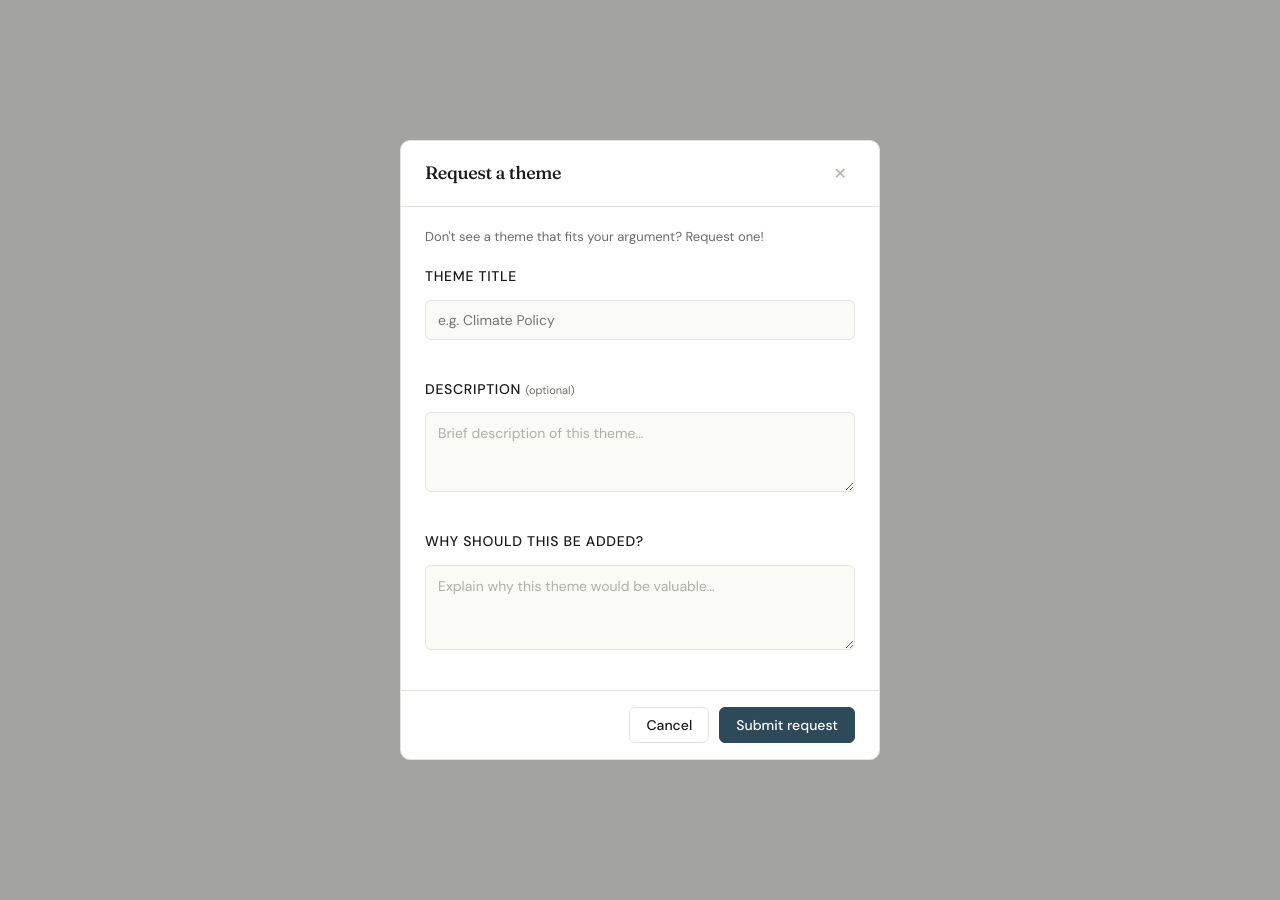
Test: ThemeRequestForm › shows API error message on failed submission
This screenshot has width=1280, height=900.
Type "Duplicate" into the field labelled "Theme title" at (640, 320), box [425,300,855,340]
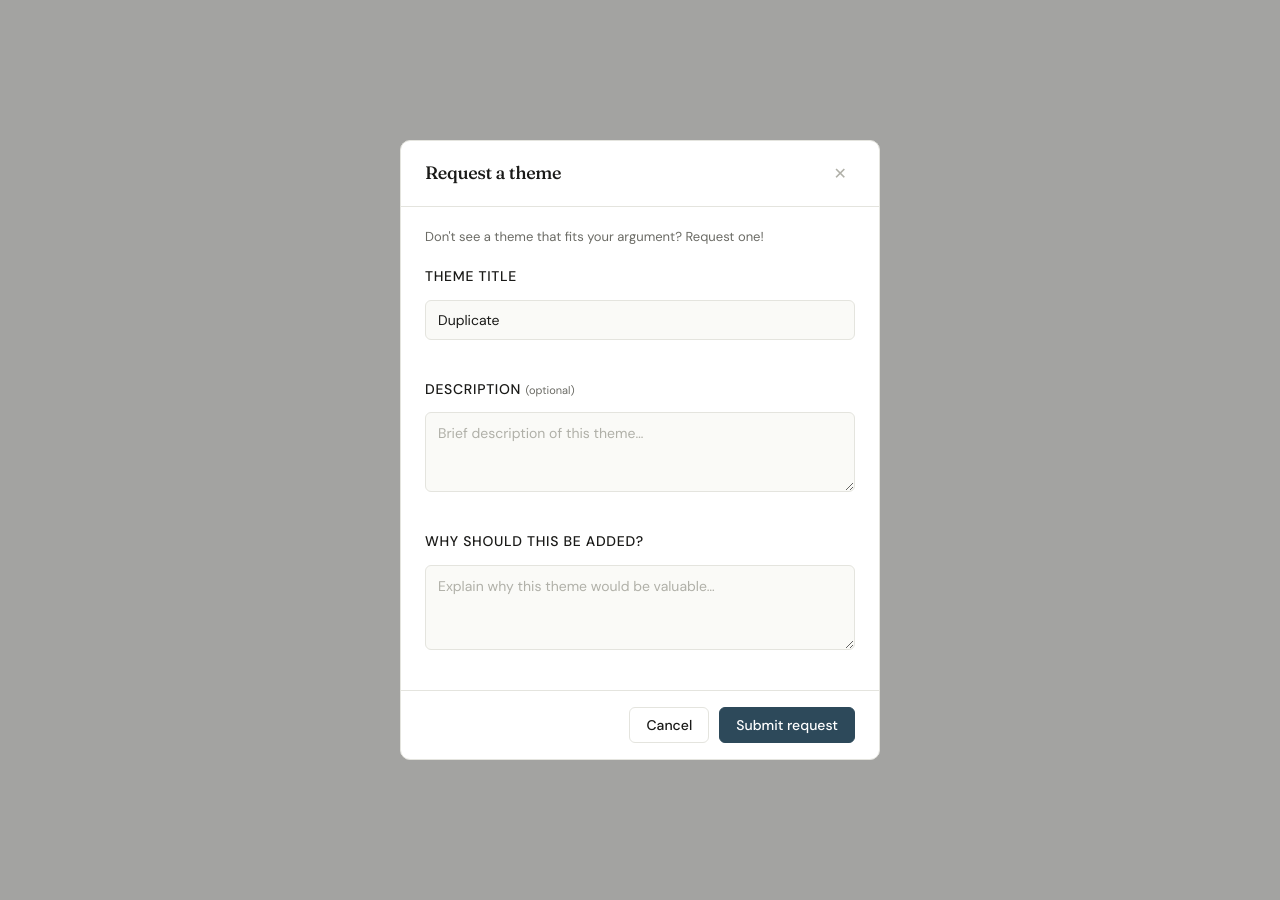
Type "reason here" into the text box labelled "Why should this be added?" at (640, 607), box [425,565,855,650]
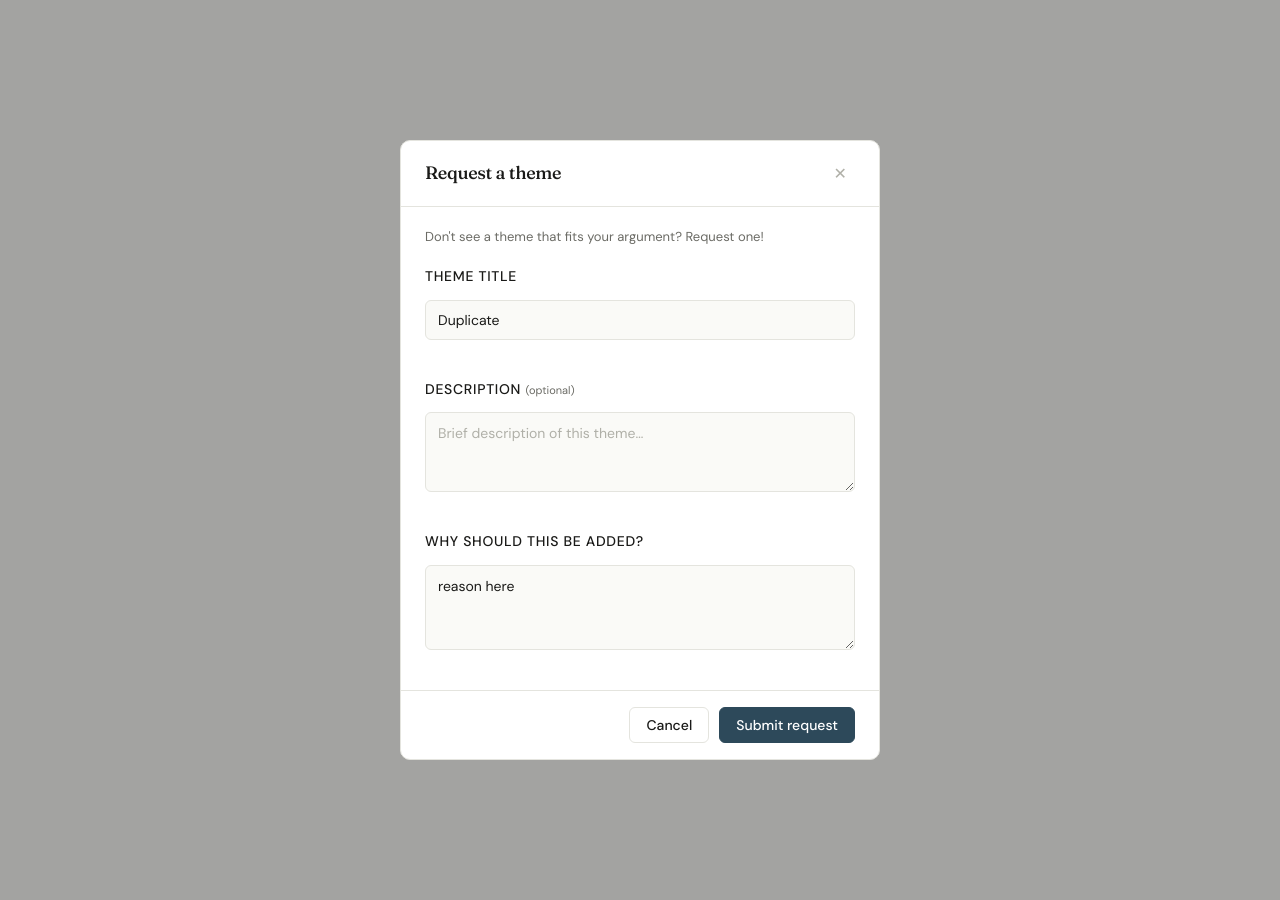
Click the button "Submit request" at (787, 725), box [719,707,855,743]
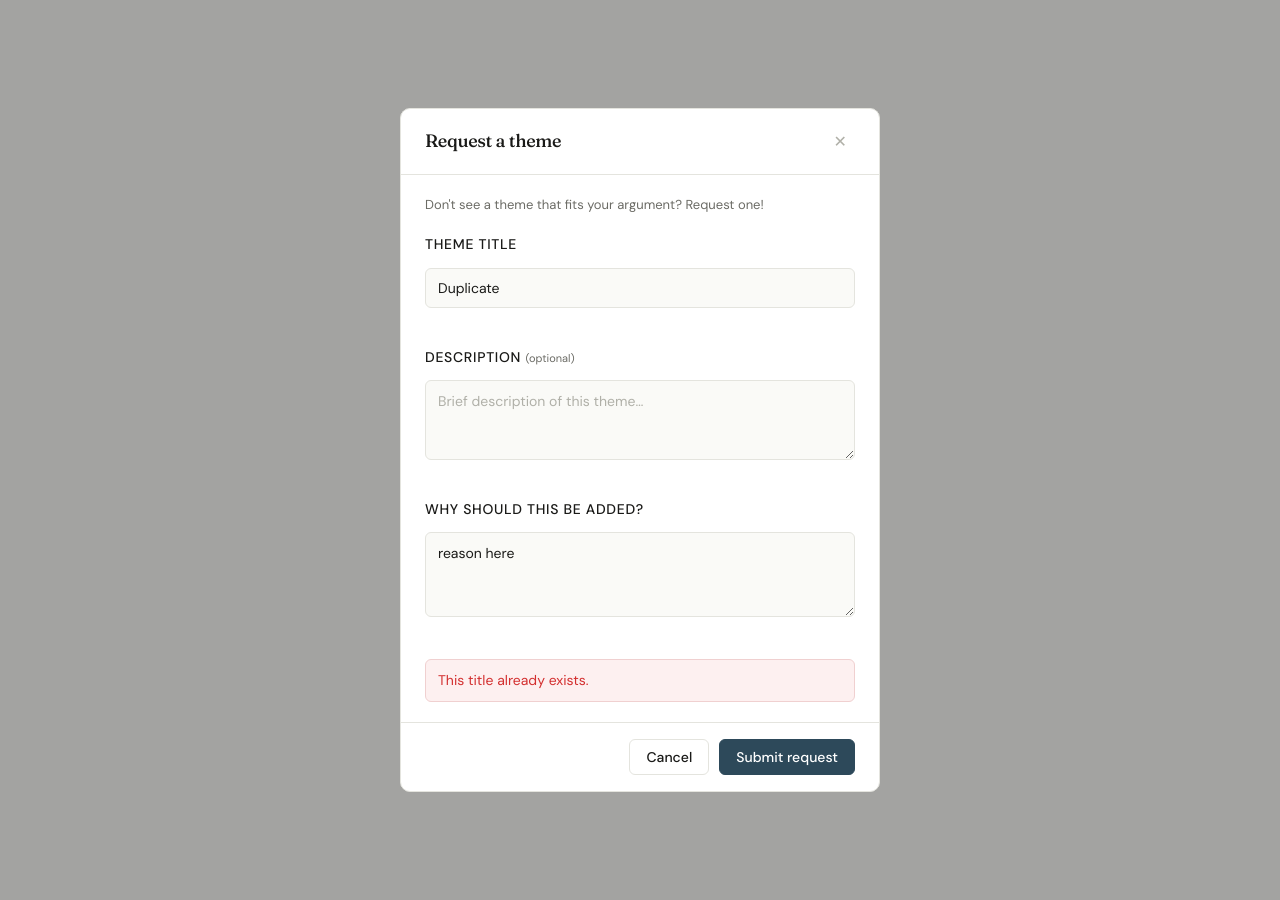
Result: the text "This title already exists." is shown at [425,660,855,702]
